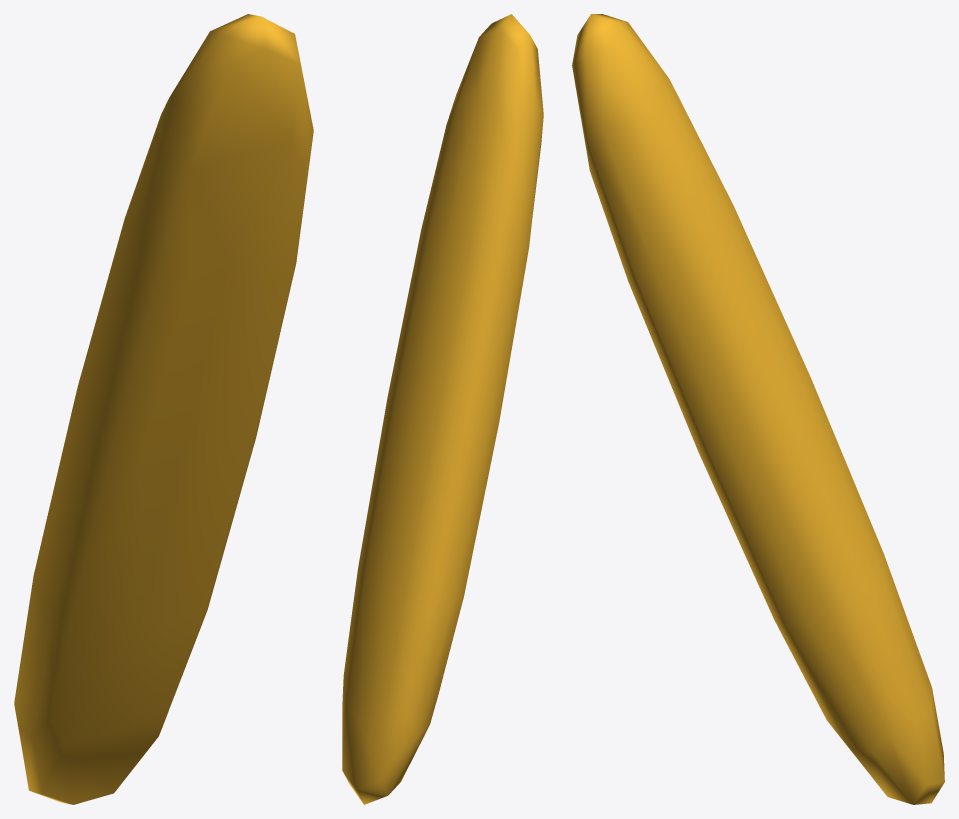
Rendered from nervoso-posterior-nucleus-of-vagus-nerve-l.glb.
3 renders of one model, left to right at view 1: azimuth 30°, elevation 25°; view 2: azimuth 150°, elevation 25°; view 3: azimuth 270°, elevation 25°, orthographic. The views are drawn at different scales.
Visible parts, largest first — view 1: Posterior nucleus of vagus nerve.l; view 2: Posterior nucleus of vagus nerve.l; view 3: Posterior nucleus of vagus nerve.l.
Part boxes in pixels (left/top/right/bottom): Posterior nucleus of vagus nerve.l: left=14, top=14, right=313, bottom=804; Posterior nucleus of vagus nerve.l: left=342, top=14, right=543, bottom=804; Posterior nucleus of vagus nerve.l: left=572, top=14, right=944, bottom=804.
Bounding box in the file's own units: 0.00117 × 0.00719 × 0.00308.
